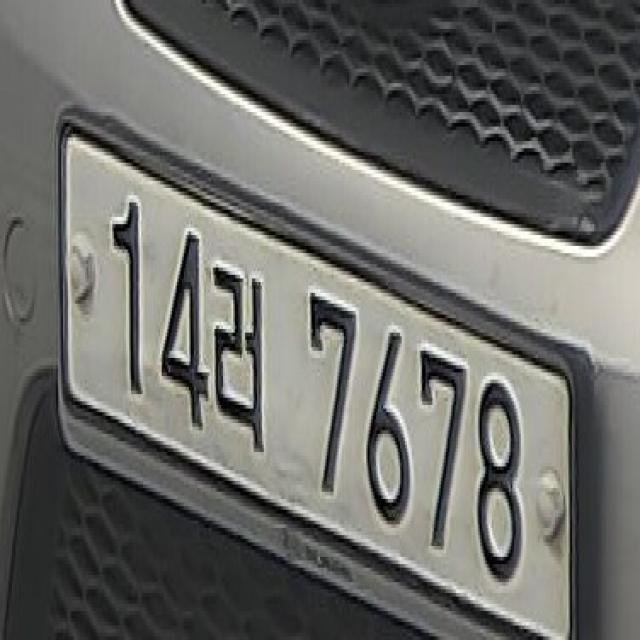1: (106, 177, 152, 423)
4: (157, 210, 211, 444)
6: (357, 318, 417, 535)
7: (303, 286, 363, 510), (418, 332, 472, 556)
8: (471, 366, 533, 590)
leo: (211, 257, 269, 463)
license_plate: (53, 105, 599, 636)
